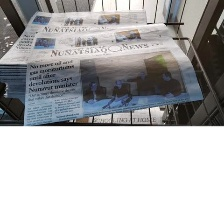news_paper: (22, 29, 207, 127), (0, 6, 149, 100)
